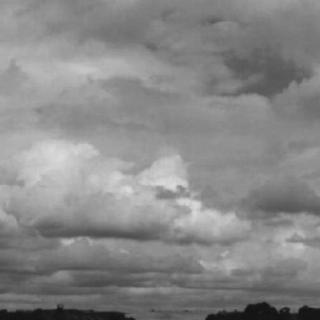Stratocumulus: (0, 0, 320, 305)
